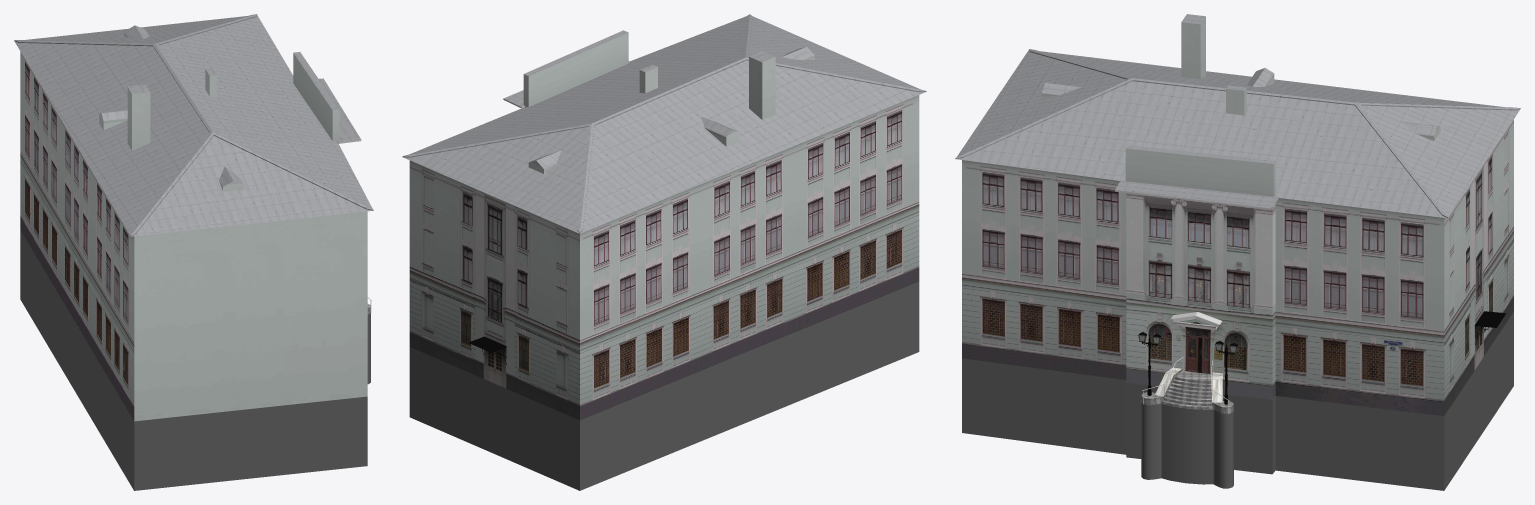
Rendered from HouseForStreet2.FBX.
3 views of the same model, side by side, from view 1: azimuth 30°, elevation 25°; view 2: azimuth 150°, elevation 25°; view 3: azimuth 270°, elevation 25° (orthographic). The views are drawn at different scales.
Parts seen in each view (by area): view 1: 01010-70@372; view 2: 01010-70@372; view 3: 01010-70@372.
Boxes of the visible parts, x1,y1,x2,y2 form: 01010-70@372: (14,14,373,490); 01010-70@372: (402,14,926,490); 01010-70@372: (955,14,1520,490).
Size of the model in its own units: 26.02 by 25.24 by 36.88.
Materials: 3 (3 with a texture image).
